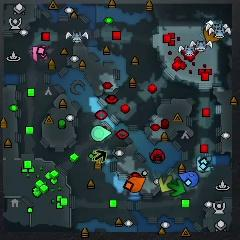p1: (180, 171, 199, 189)
p2: (91, 124, 111, 141)
p5: (128, 175, 145, 194)
x1: (32, 45, 50, 60)
x2: (159, 176, 174, 193)
x2Clone: (94, 150, 107, 163)
x3: (197, 156, 212, 172)
x4: (168, 179, 186, 196)
x5: (203, 29, 220, 42)
